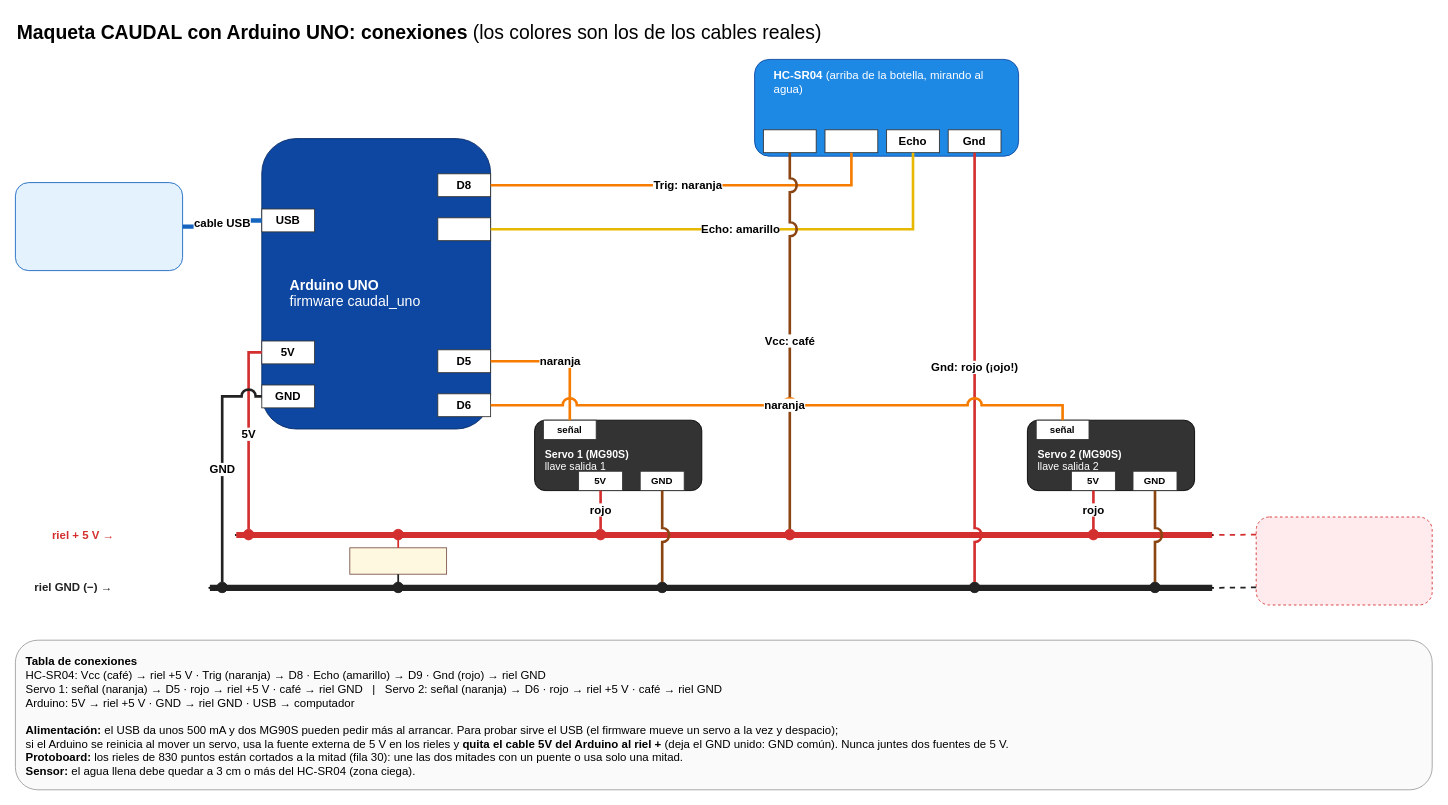
This 1448x805 diagram has some shape labels left out. Here are the shapes that lost their labels. From the top down, the box of each, then its label:
(763, 129, 816, 153): Vcc
(824, 129, 878, 153): Trig
(15, 182, 183, 271): Computador caudal-sim maqueta-usb (firma y habla con la API)
(437, 217, 491, 241): D9
(349, 547, 447, 574): C 470–1000 µF (+ arriba)
(1255, 516, 1432, 605): Fuente externa 5 V, 2 A (recomendada para los servos) GND común con el UNO
